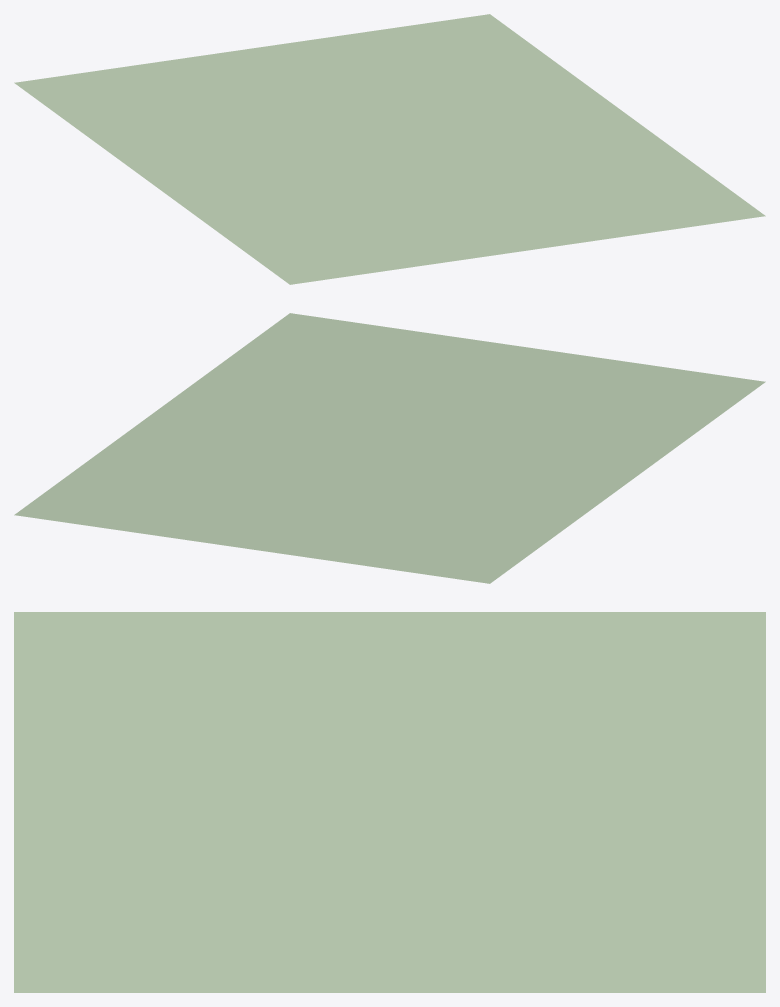
Rendered from cavern.dae.
3 renders of one model, top to bottom at view 1: azimuth 30°, elevation 25°; view 2: azimuth 150°, elevation 25°; view 3: azimuth 270°, elevation 25°, orthographic. The views are drawn at different scales.
Visible parts, largest first — view 1: terrain; view 2: terrain; view 3: terrain.
Boxes of the visible parts, left/top/right/bottom form: terrain: left=14, top=14, right=765, bottom=284; terrain: left=14, top=313, right=765, bottom=583; terrain: left=14, top=612, right=765, bottom=992.
Size of the model in its own units: 99.55 by 100 by 9.47.
